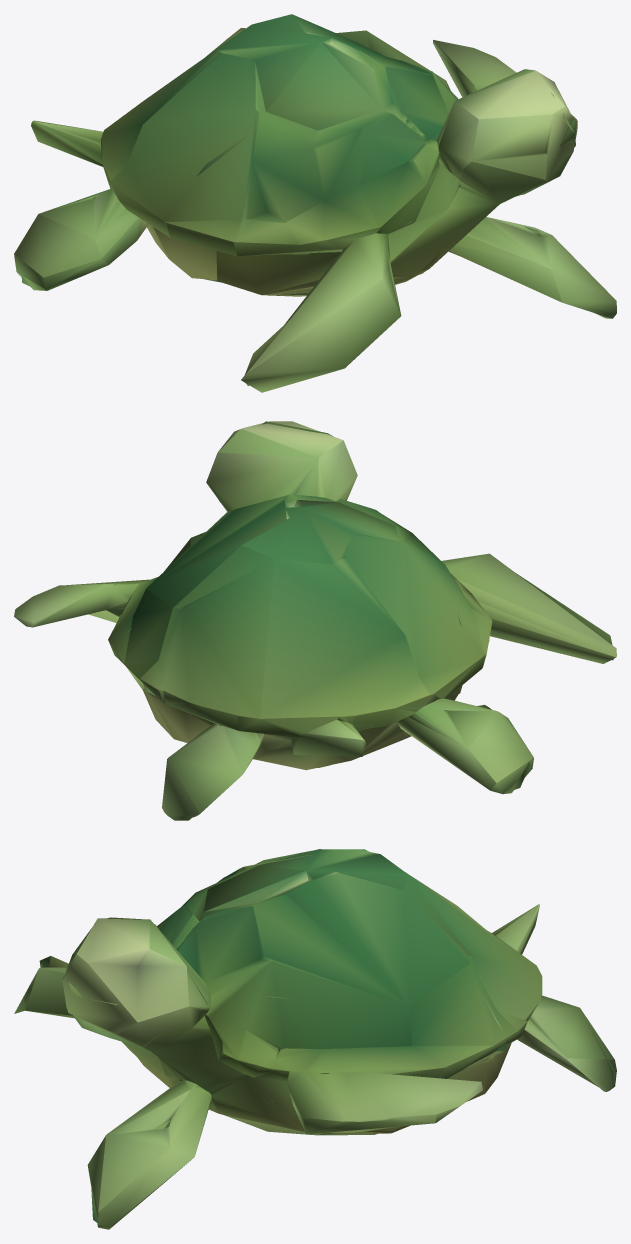
The model's file is aholo-turtle-light.glb.
The picture shows the model from 3 angles, top to bottom: view 1: azimuth 30°, elevation 25°; view 2: azimuth 150°, elevation 25°; view 3: azimuth 270°, elevation 25°; orthographic projection. The views are drawn at different scales.
Visible parts, largest first — view 1: geometry_0; view 2: geometry_0; view 3: geometry_0.
Part boxes in pixels (bbox=[...]): geometry_0: bbox=[14, 14, 616, 392]; geometry_0: bbox=[14, 421, 616, 820]; geometry_0: bbox=[14, 849, 616, 1229].
Size of the model in its own units: 0.348 by 0.1675 by 0.3478.
